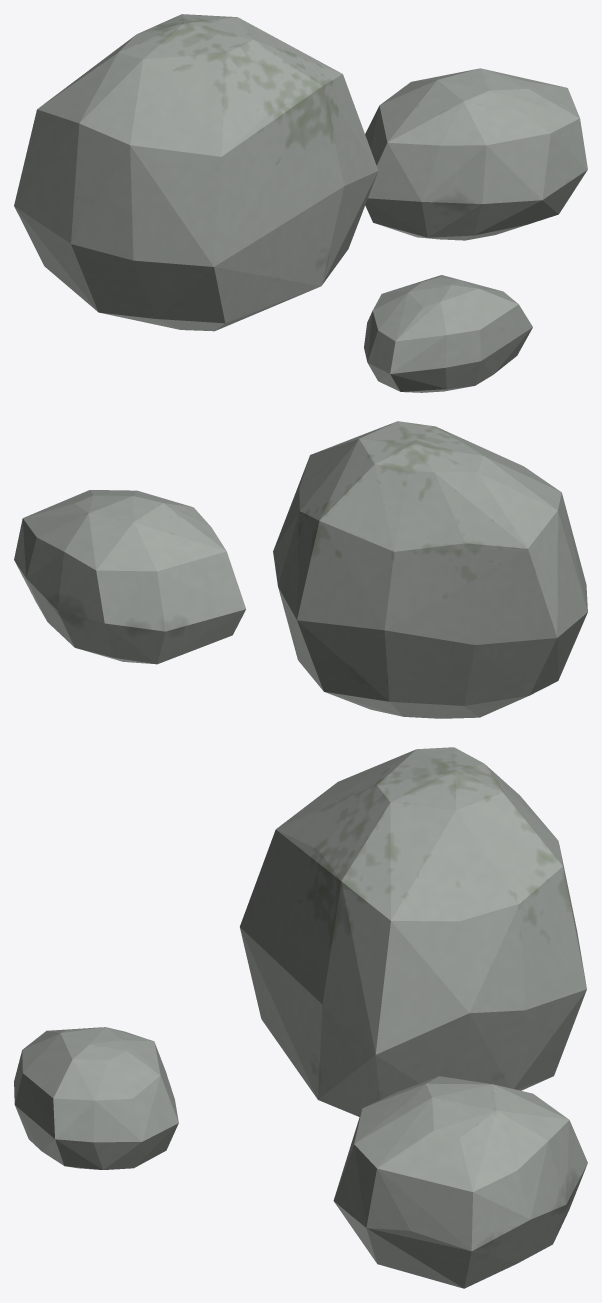
The model's file is river_riverbank_rock_small.glb.
3 views of the same model, one above another, from view 1: azimuth 30°, elevation 25°; view 2: azimuth 150°, elevation 25°; view 3: azimuth 270°, elevation 25° (orthographic). The views are drawn at different scales.
Parts seen in each view (by area): view 1: RiverbankRockSmall; view 2: RiverbankRockSmall; view 3: RiverbankRockSmall.
Boxes of the visible parts, x1,y1,x2,y2 form: RiverbankRockSmall: (14,14,587,392); RiverbankRockSmall: (14,421,587,718); RiverbankRockSmall: (14,747,587,1288).
Size of what is drawn, in the model's own units: 1.2 by 0.55 by 0.9.
1 material, 1 textured.
